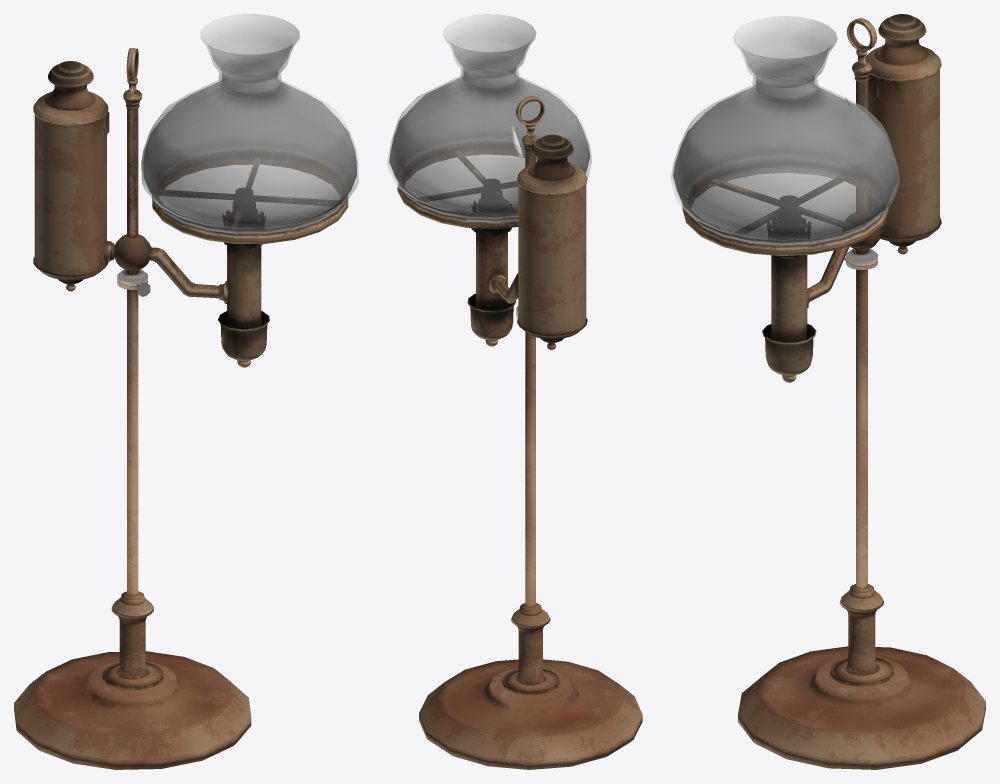
The model's file is victorian_brass_oil_lamp.glb.
3 views of the same model, side by side, from view 1: azimuth 30°, elevation 25°; view 2: azimuth 150°, elevation 25°; view 3: azimuth 270°, elevation 25° (orthographic). The views are drawn at different scales.
Parts seen in each view (by area): view 1: Object_2; view 2: Object_2; view 3: Object_2.
Boxes of the visible parts, x1,y1,x2,y2 form: Object_2: (14, 14, 358, 769); Object_2: (387, 14, 642, 769); Object_2: (671, 14, 985, 769).
Bounding box in the file's own units: 22.8 × 54.24 × 21.41.
Materials: 1 (1 with a texture image).
